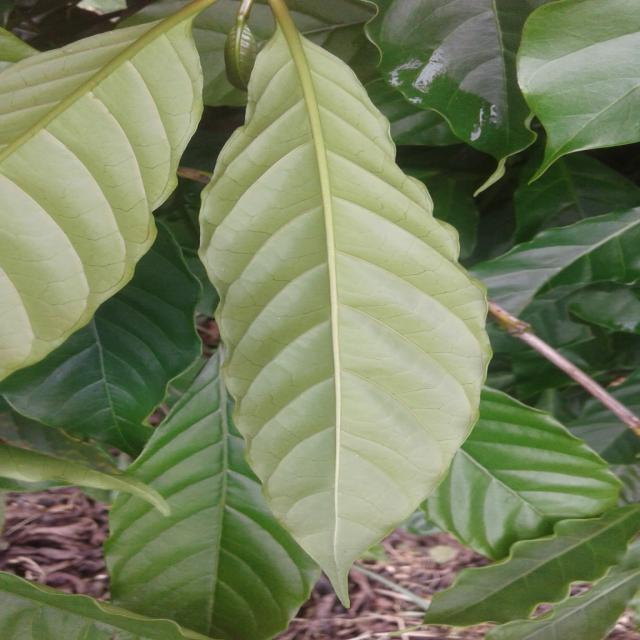Sanas: (197, 0, 492, 596)
